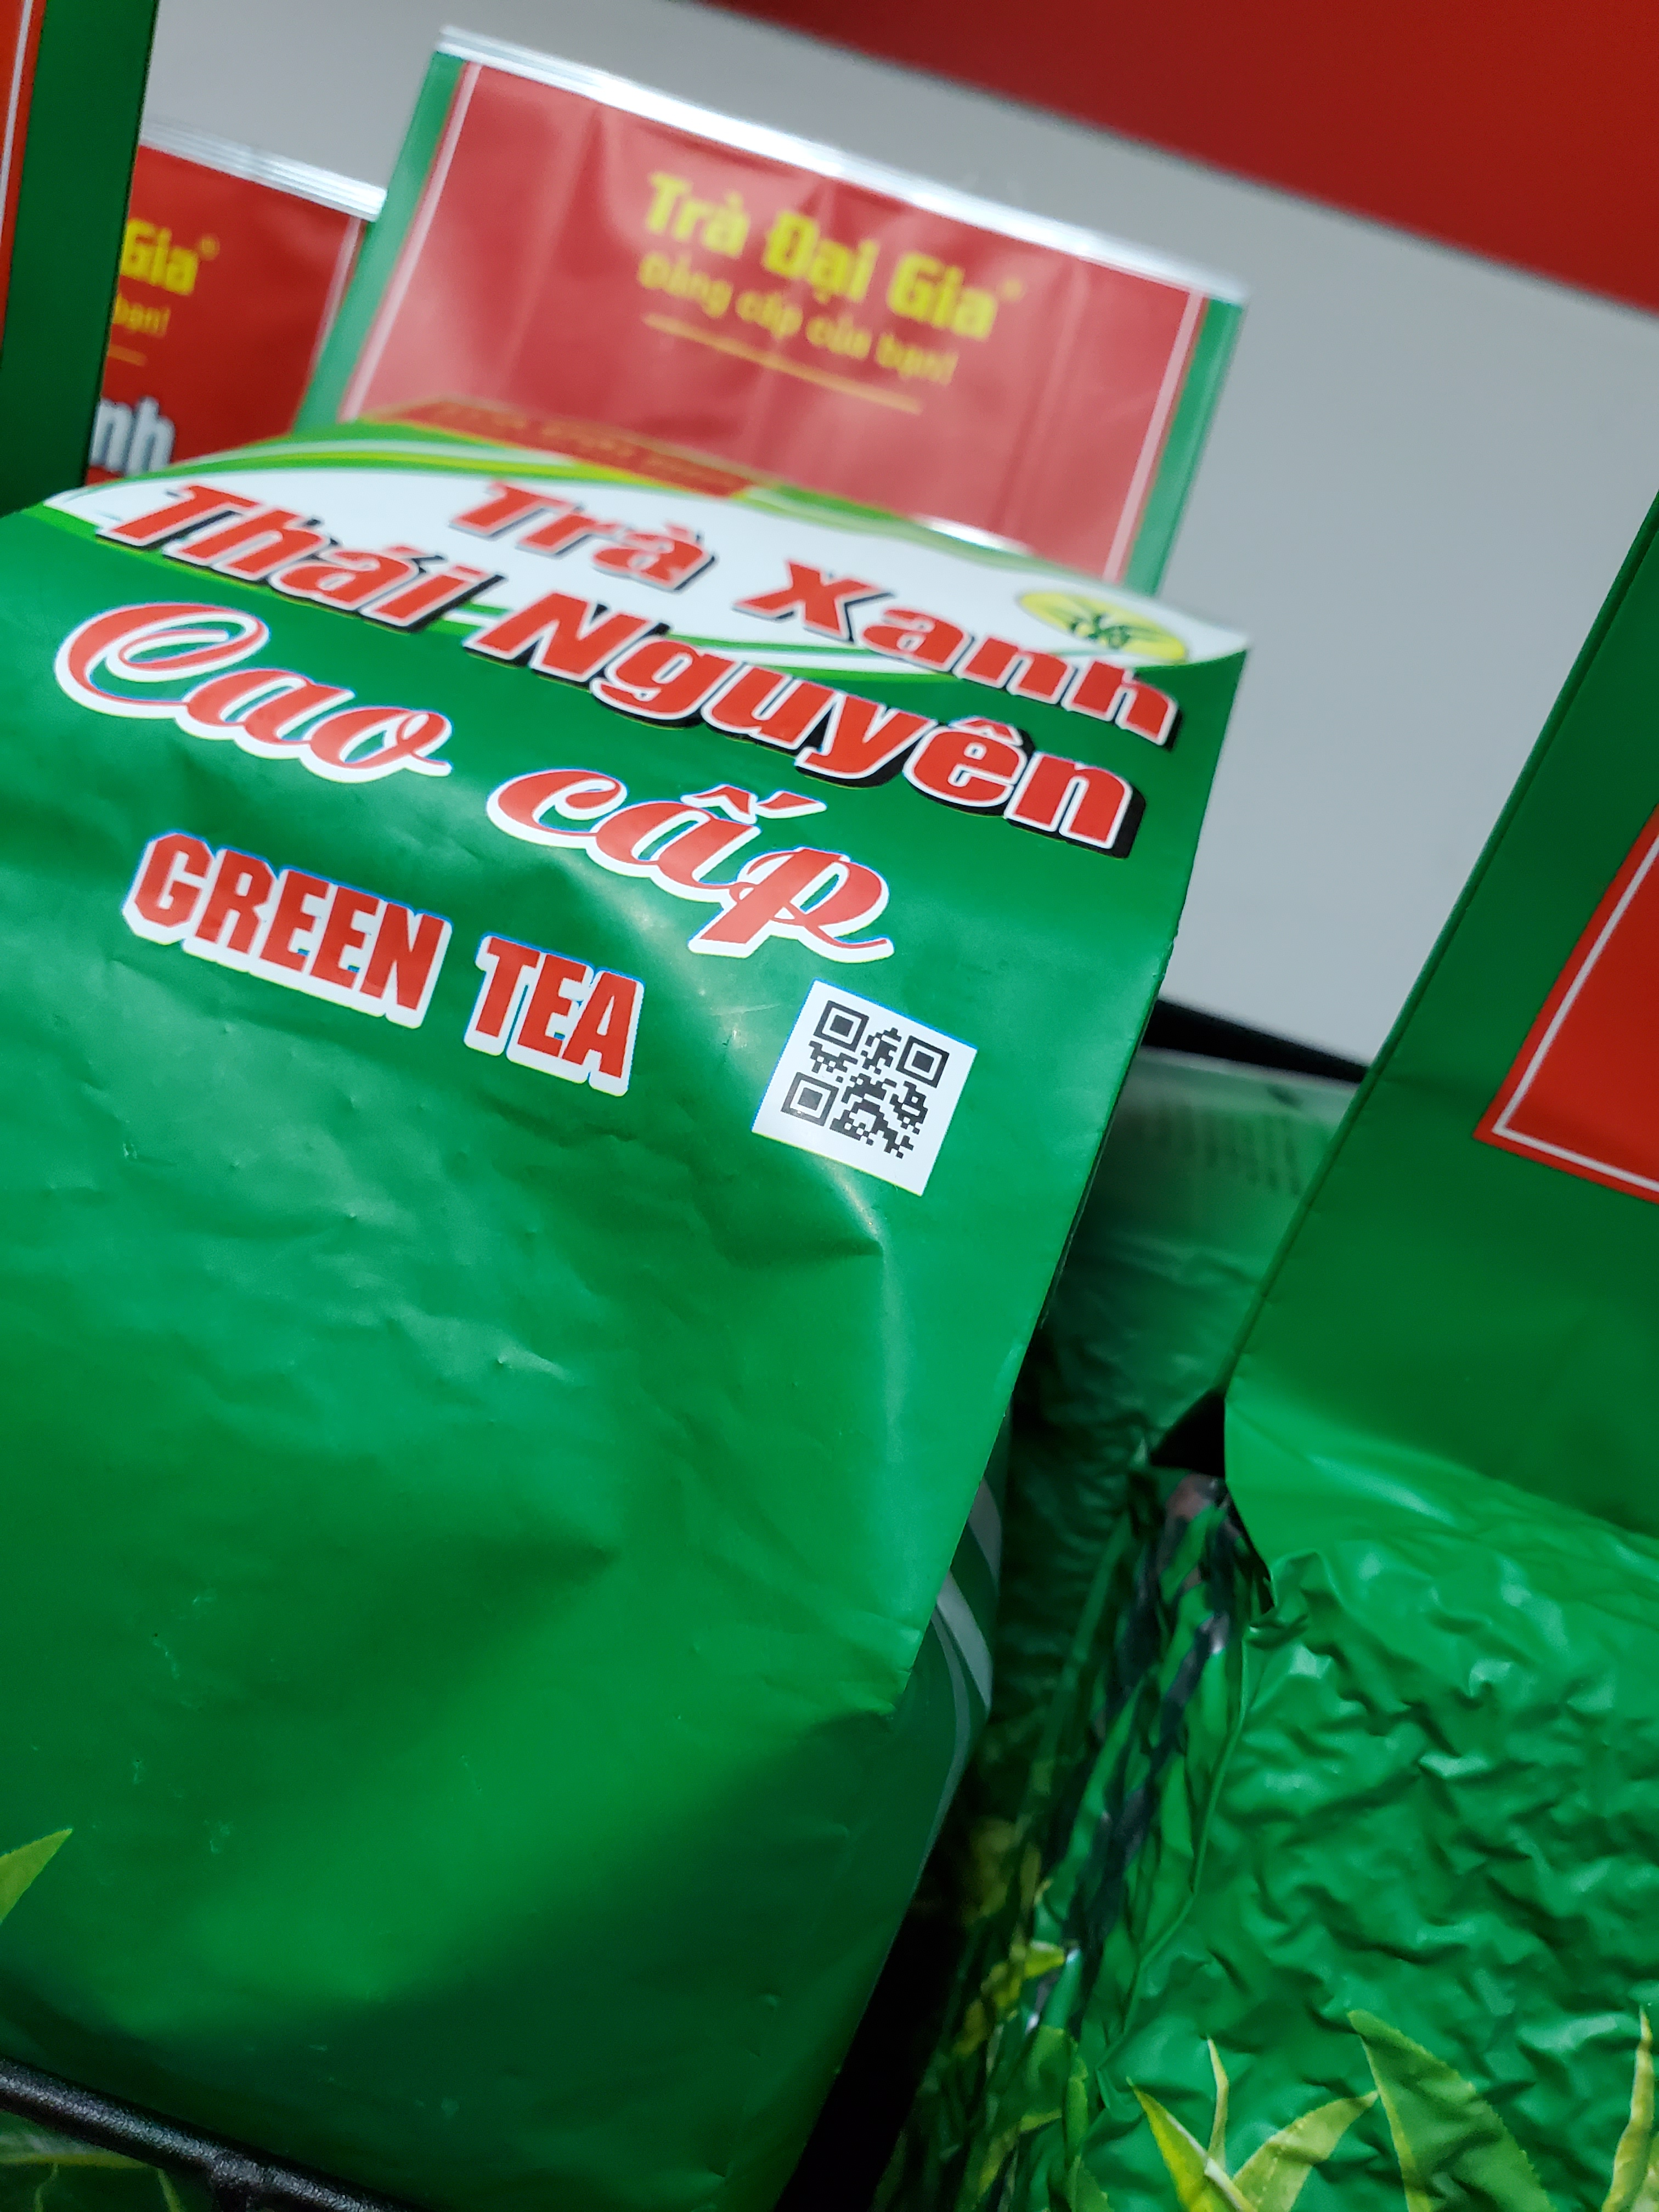qr code: (755, 982, 960, 1200)
